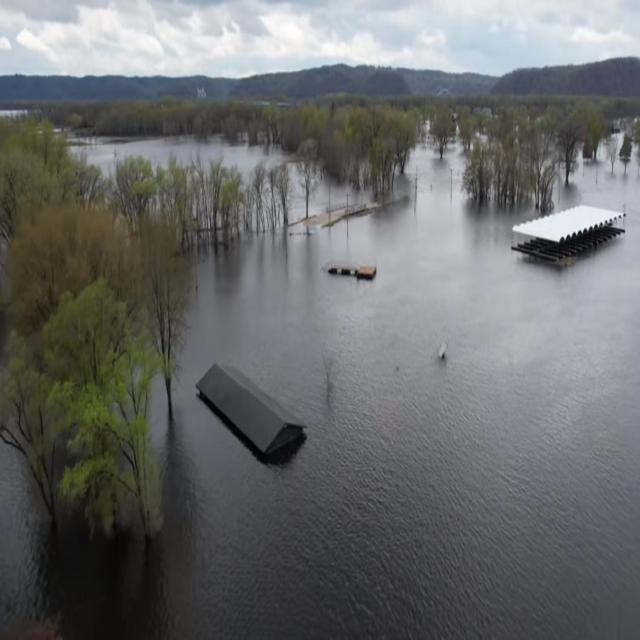flood: (129, 151, 640, 637), (0, 440, 148, 638), (69, 135, 291, 177), (151, 374, 168, 456)
house: (192, 358, 310, 467)
